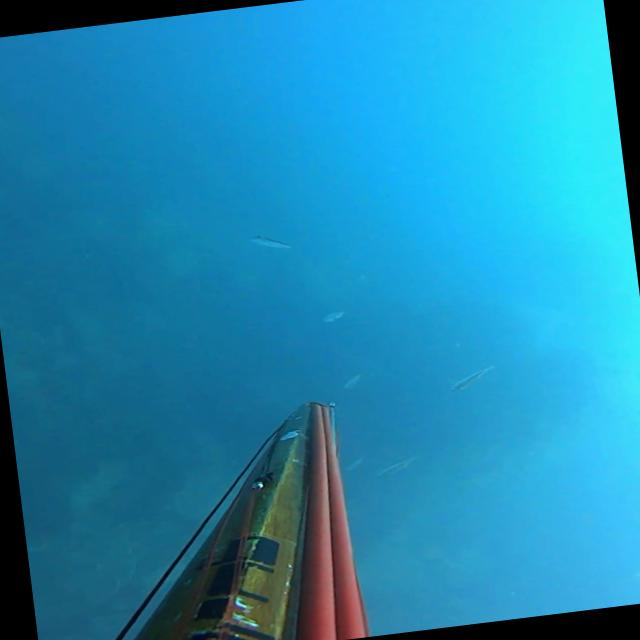Balon Baligi: (446, 365, 496, 391), (247, 231, 291, 252), (374, 456, 416, 478), (340, 374, 362, 390), (320, 311, 346, 322), (344, 458, 362, 472)
